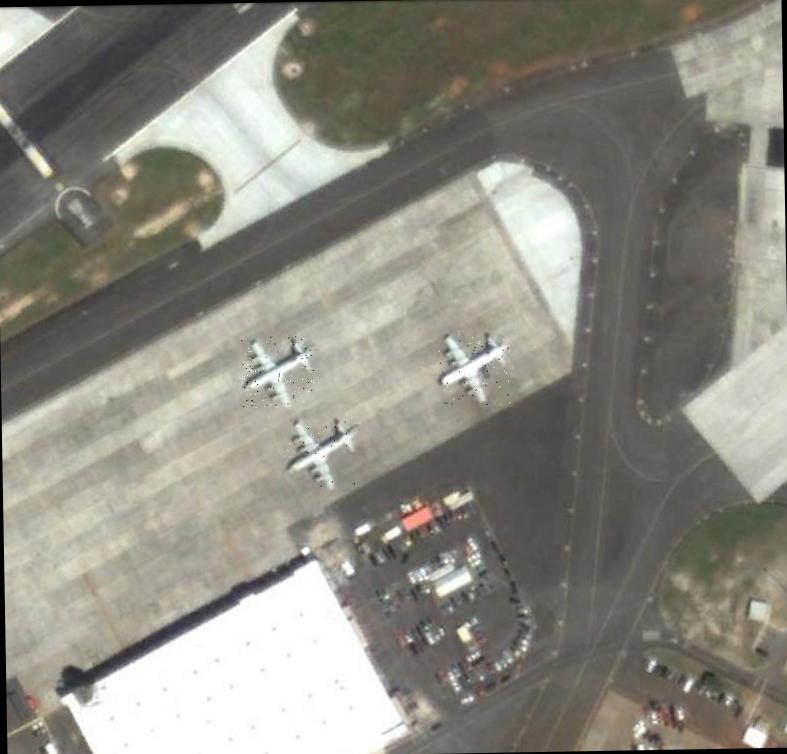A9: (436, 330, 509, 405), (241, 336, 314, 408), (286, 418, 357, 490)
